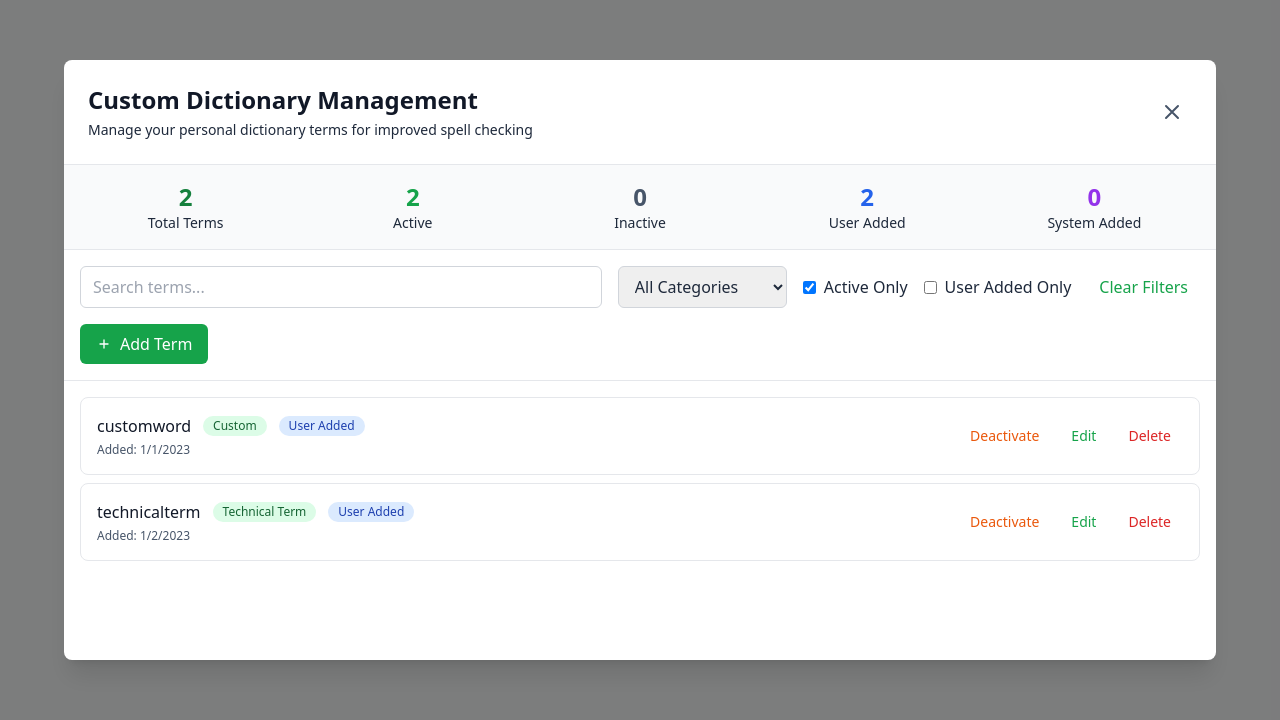
it: DictionaryManager › Adding Terms › shows add form when add button is clicked
This screenshot has width=1280, height=720.
Step 1. Click the button "Add Term" → (144, 344), box [80, 324, 208, 364]
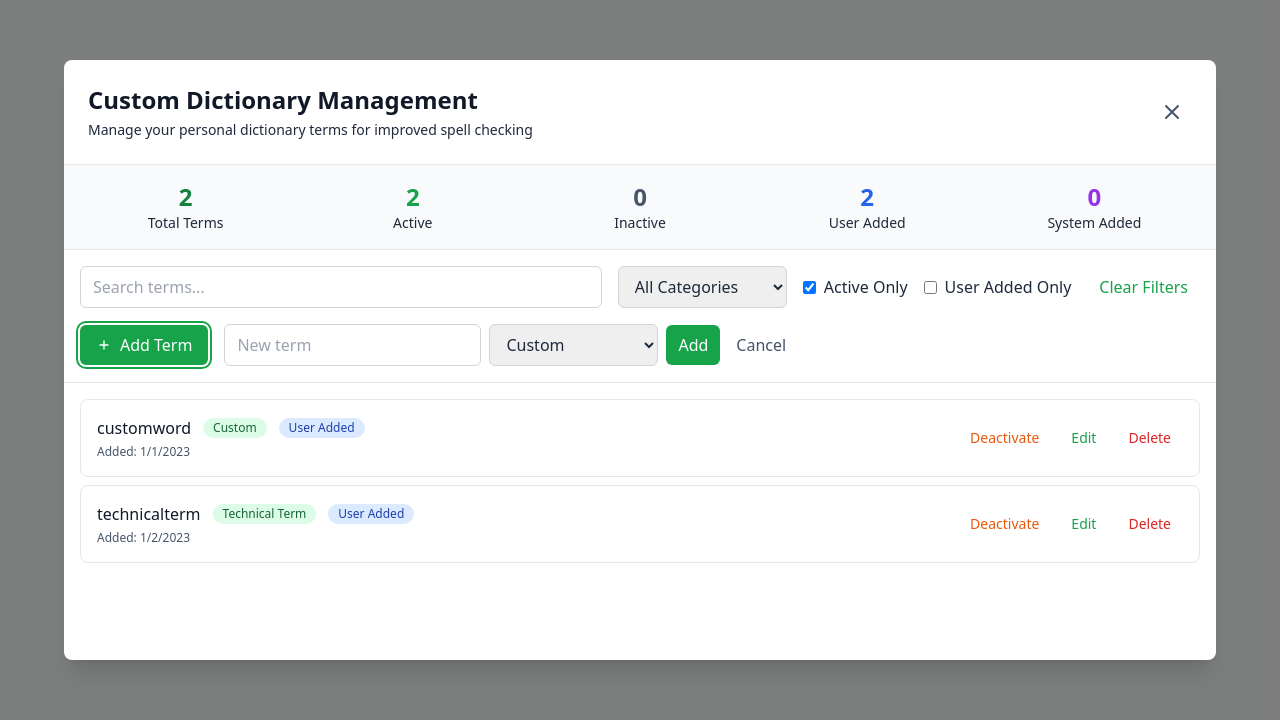
Now the field with placeholder "New term" is shown, box [224, 324, 481, 366]
